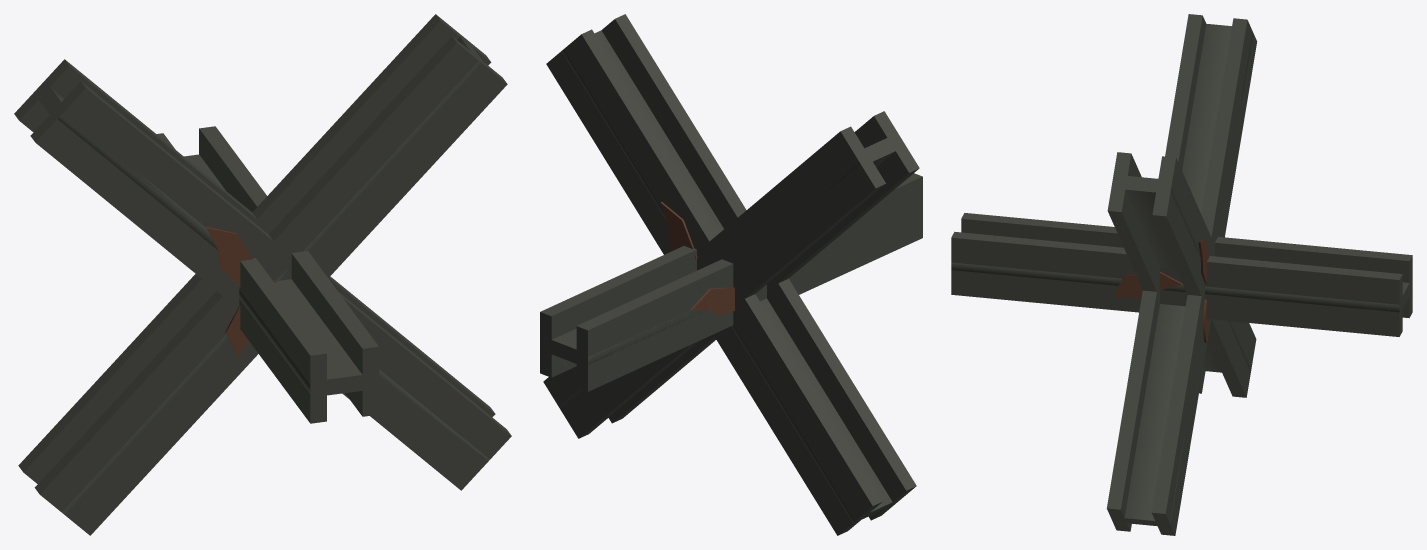
File: tank_trap_c.obj
The picture shows the model from 3 angles, left to right: view 1: azimuth 30°, elevation 25°; view 2: azimuth 150°, elevation 25°; view 3: azimuth 270°, elevation 25°; orthographic projection. The views are drawn at different scales.
Parts seen in each view (by area): view 1: retained_0, retained_88, retained_12, retained_152, retained_164, retained_76, rounded_inner_web_3, rounded_inner_web_2, rounded_inner_web_1, retained_132, retained_36; view 2: retained_12, retained_76, retained_164, retained_0, rounded_inner_web_1, retained_152, retained_88, rounded_inner_web_3, rounded_inner_web_2, retained_208, retained_56; view 3: retained_152, retained_76, rounded_inner_web_2, retained_88, retained_164, retained_12, rounded_inner_web_3, retained_0, rounded_inner_web_1, retained_188.
Part boxes in pixels (x1,y1,x2,y2): retained_0: (34,36,507,535); retained_88: (30,81,511,490); retained_12: (18,14,491,483); retained_152: (199,126,378,416); retained_164: (156,133,326,423); retained_76: (14,59,495,417); rounded_inner_web_3: (184,154,378,397); rounded_inner_web_2: (34,82,489,460); rounded_inner_web_1: (62,34,482,515); retained_132: (206,227,252,287); retained_36: (225,280,276,355); retained_12: (546,29,883,535); retained_76: (543,126,885,438); retained_164: (576,173,922,391); retained_0: (601,14,916,520); rounded_inner_web_1: (561,30,897,523); retained_152: (540,246,696,377); retained_88: (608,111,919,423); rounded_inner_web_3: (541,310,704,367); rounded_inner_web_2: (558,134,902,411); retained_208: (690,287,734,316); retained_56: (660,202,697,259); retained_152: (951,231,1402,336); retained_76: (1151,18,1257,535); rounded_inner_web_2: (1111,23,1252,527); retained_88: (1106,14,1206,531); retained_164: (961,213,1412,318); retained_12: (1152,156,1256,397); rounded_inner_web_3: (951,262,1412,313); retained_0: (1107,152,1205,393); rounded_inner_web_1: (1112,175,1251,372); retained_188: (1113,272,1182,298).
Size of the model in its own units: 1.61 by 1.6 by 1.76.
